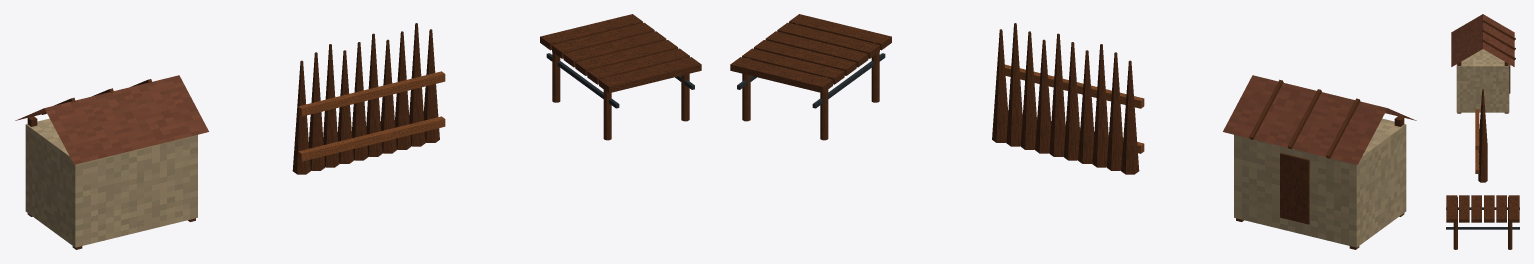
Rendered from KIT_koa_trading_post.gltf.
3 renders of one model, left to right at view 1: azimuth 30°, elevation 25°; view 2: azimuth 150°, elevation 25°; view 3: azimuth 270°, elevation 25°, orthographic. The views are drawn at different scales.
Parts seen in each view (by area): view 1: 01_hut, 02_palisade, 03_pier; view 2: 01_hut, 02_palisade, 03_pier; view 3: 01_hut, 03_pier, 02_palisade.
Boxes of the visible parts, x1,y1,x2,y2 form: 01_hut: (15, 75, 208, 249); 02_palisade: (292, 23, 445, 174); 03_pier: (540, 14, 701, 140); 01_hut: (1223, 75, 1416, 249); 02_palisade: (992, 23, 1144, 174); 03_pier: (730, 14, 891, 140); 01_hut: (1451, 14, 1515, 113); 03_pier: (1446, 195, 1519, 249); 02_palisade: (1475, 89, 1487, 182).
Size of the model in its own units: 13.46 by 3 by 2.6.
5 materials, 5 textured.
